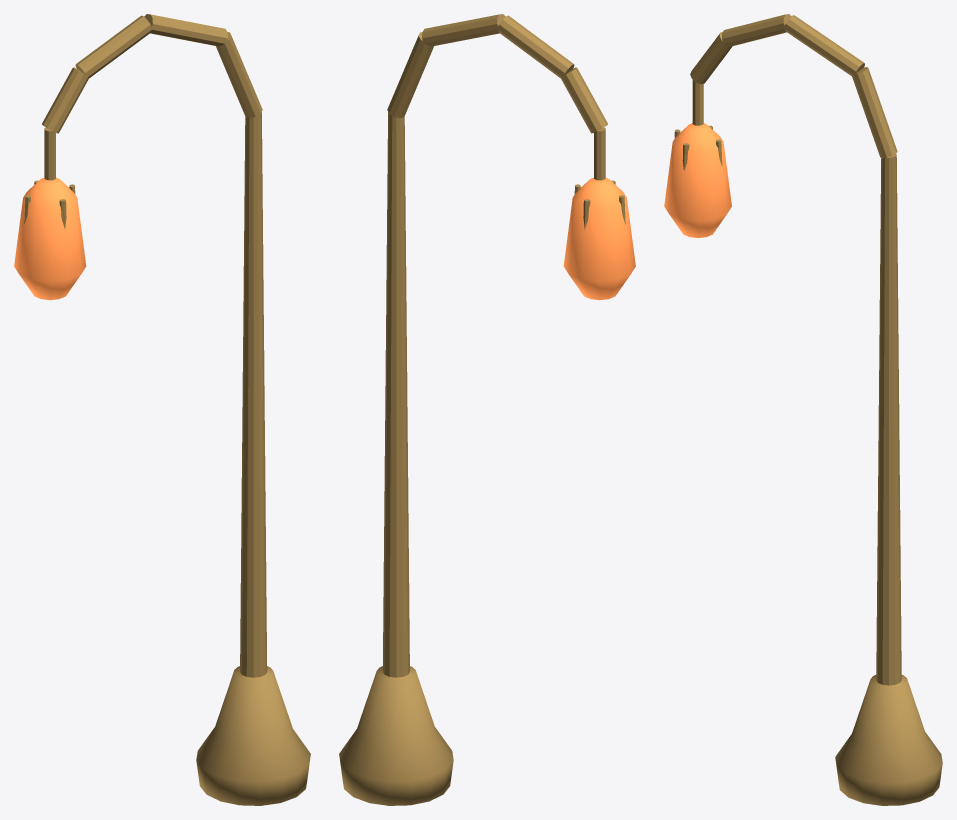
The model's file is lamp.glb.
3 renders of one model, left to right at view 1: azimuth 30°, elevation 25°; view 2: azimuth 150°, elevation 25°; view 3: azimuth 330°, elevation 25°, orthographic. The views are drawn at different scales.
Visible parts, largest first — view 1: Citadel_Plaza_lamp__aged_brushed_brass, Citadel_Plaza_lamp__amber_furnace_stone; view 2: Citadel_Plaza_lamp__aged_brushed_brass, Citadel_Plaza_lamp__amber_furnace_stone; view 3: Citadel_Plaza_lamp__aged_brushed_brass, Citadel_Plaza_lamp__amber_furnace_stone.
Boxes of the visible parts, x1,y1,x2,y2 form: Citadel_Plaza_lamp__aged_brushed_brass: (24,14,310,805); Citadel_Plaza_lamp__amber_furnace_stone: (14,177,86,300); Citadel_Plaza_lamp__aged_brushed_brass: (339,14,625,805); Citadel_Plaza_lamp__amber_furnace_stone: (563,177,635,300); Citadel_Plaza_lamp__aged_brushed_brass: (674,14,942,805); Citadel_Plaza_lamp__amber_furnace_stone: (664,123,731,237).
Bounding box in the file's own units: 0.91 × 2.42 × 0.32.
